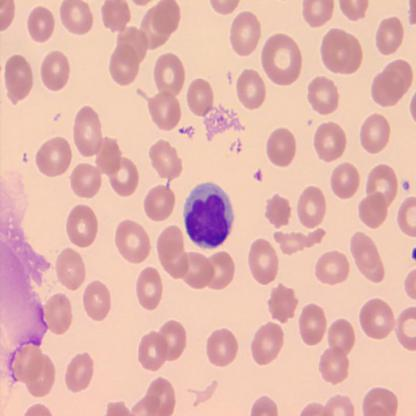Lymphocyte: (183, 182, 234, 248)
